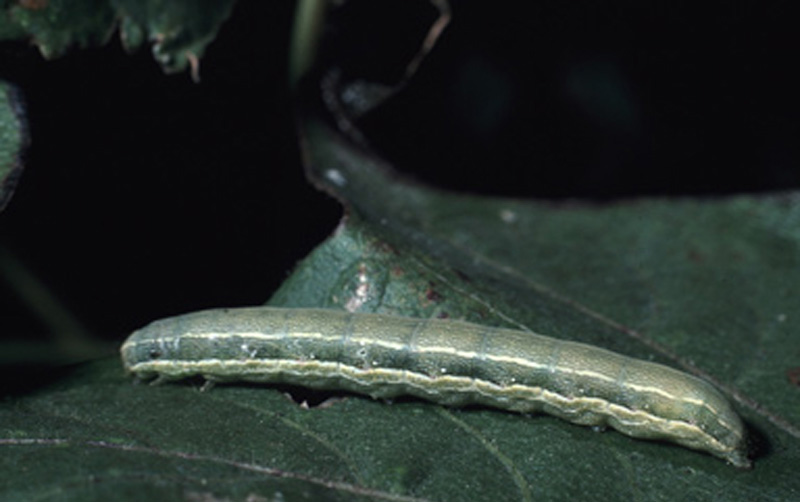Armyworm: (81, 297, 765, 479)
